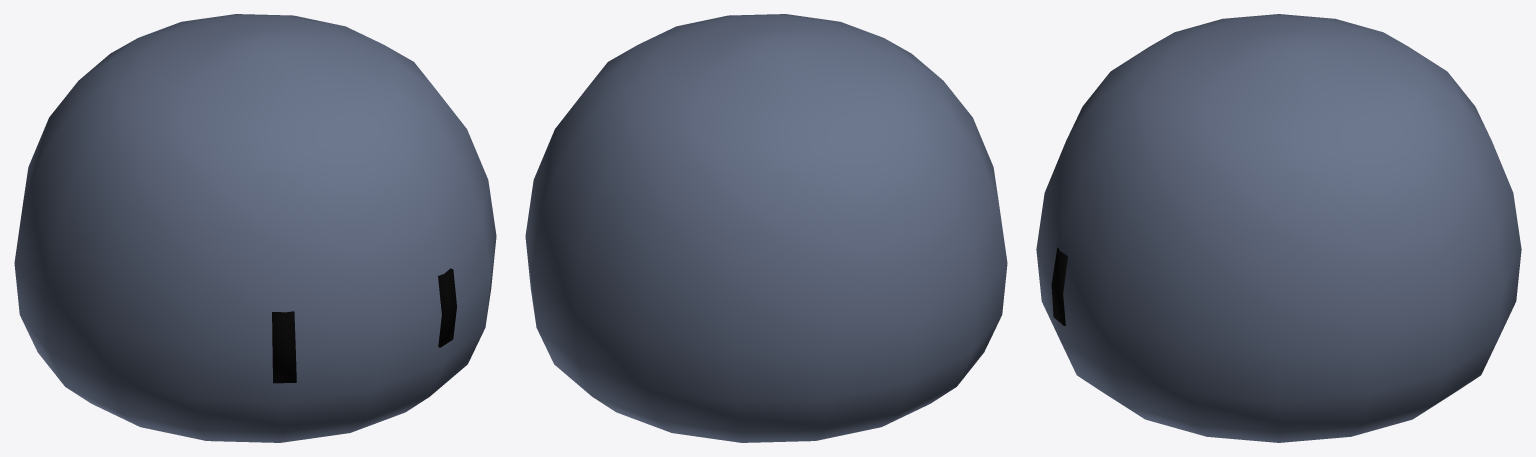
File: slime2.glb
The picture shows the model from 3 angles, left to right: view 1: azimuth 30°, elevation 25°; view 2: azimuth 150°, elevation 25°; view 3: azimuth 270°, elevation 25°; orthographic projection.
Visible parts, largest first — view 1: Slime_2; view 2: Slime_2; view 3: Slime_2.
Part boxes in pixels (<box>): Slime_2: <box>14,14,496,442</box>; Slime_2: <box>525,14,1007,442</box>; Slime_2: <box>1036,14,1521,442</box>.
Size of the model in its own units: 1.64 by 1.23 by 1.64.
